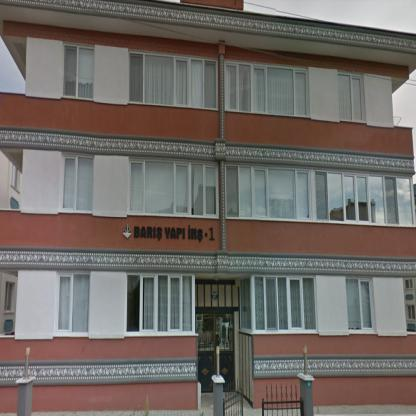door: (195, 312, 234, 392)
window: (226, 165, 414, 224), (128, 158, 218, 216), (129, 52, 218, 108), (225, 62, 309, 117), (124, 272, 195, 335), (239, 276, 317, 332), (56, 271, 89, 336), (60, 154, 93, 214), (63, 45, 93, 99), (336, 72, 366, 124), (346, 276, 374, 329), (4, 281, 15, 311), (12, 166, 21, 191), (407, 305, 415, 320), (405, 279, 413, 289)
